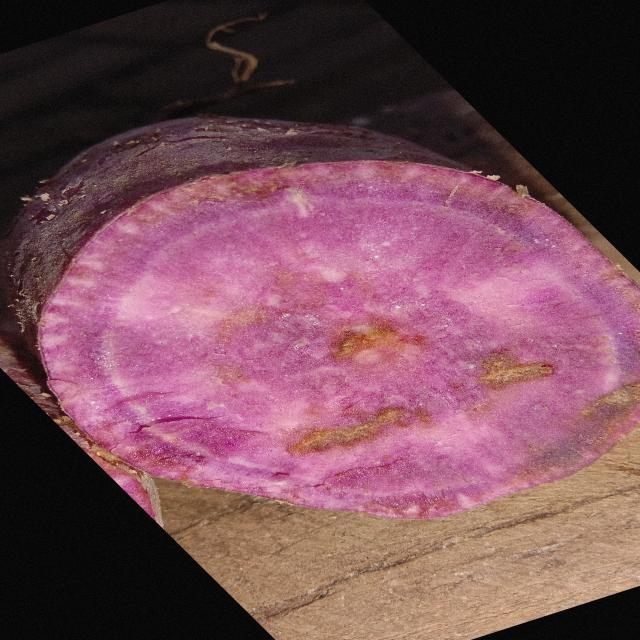Sick Sweet Potato_Tuber Rot: (40, 161, 638, 518)
